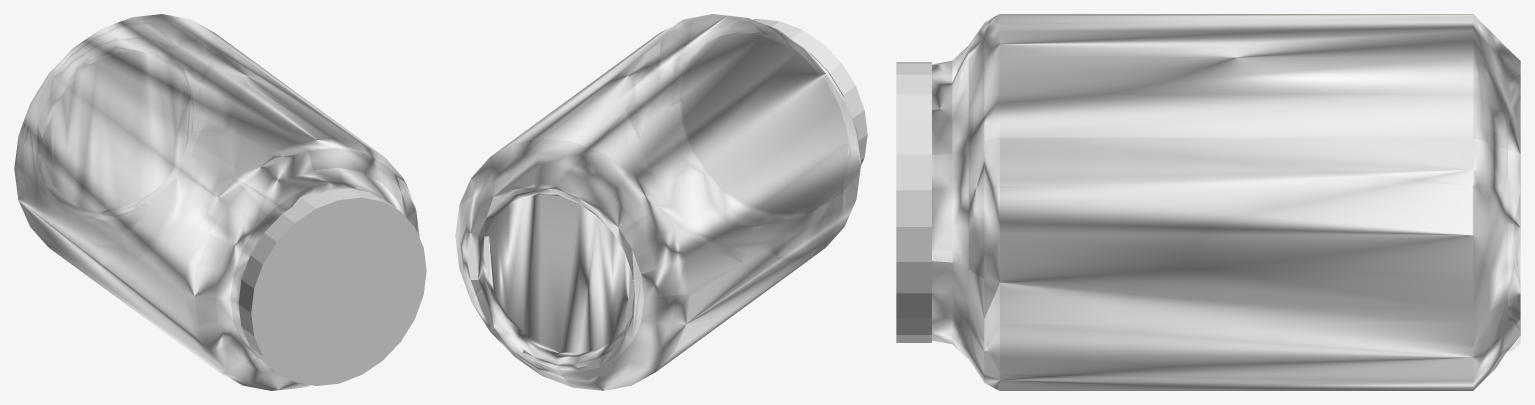
Rendered from model_align.obj.
The picture shows the model from 3 angles, left to right: view 1: azimuth 30°, elevation 25°; view 2: azimuth 150°, elevation 25°; view 3: azimuth 270°, elevation 25°; orthographic projection. The views are drawn at different scales.
Bounding box in the file's own units: 0.1337 × 0.1337 × 0.2204.
